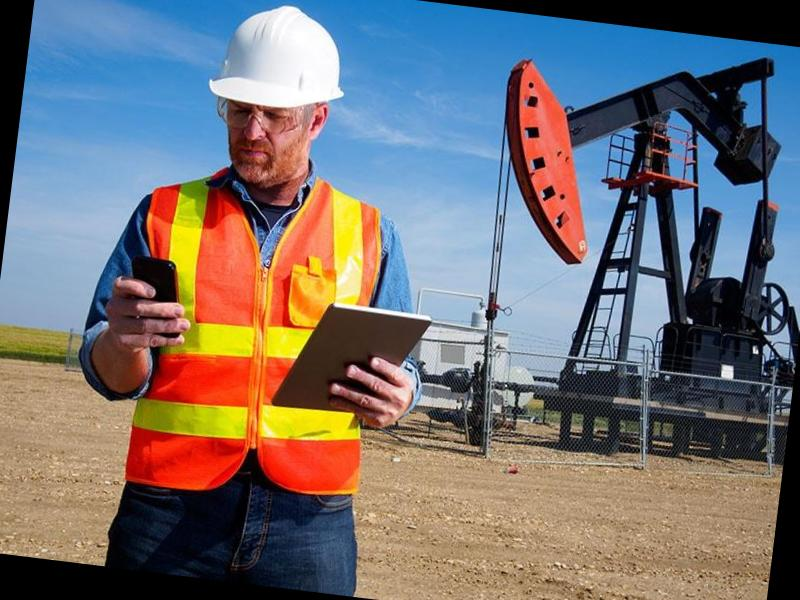Vest: (96, 153, 412, 501)
